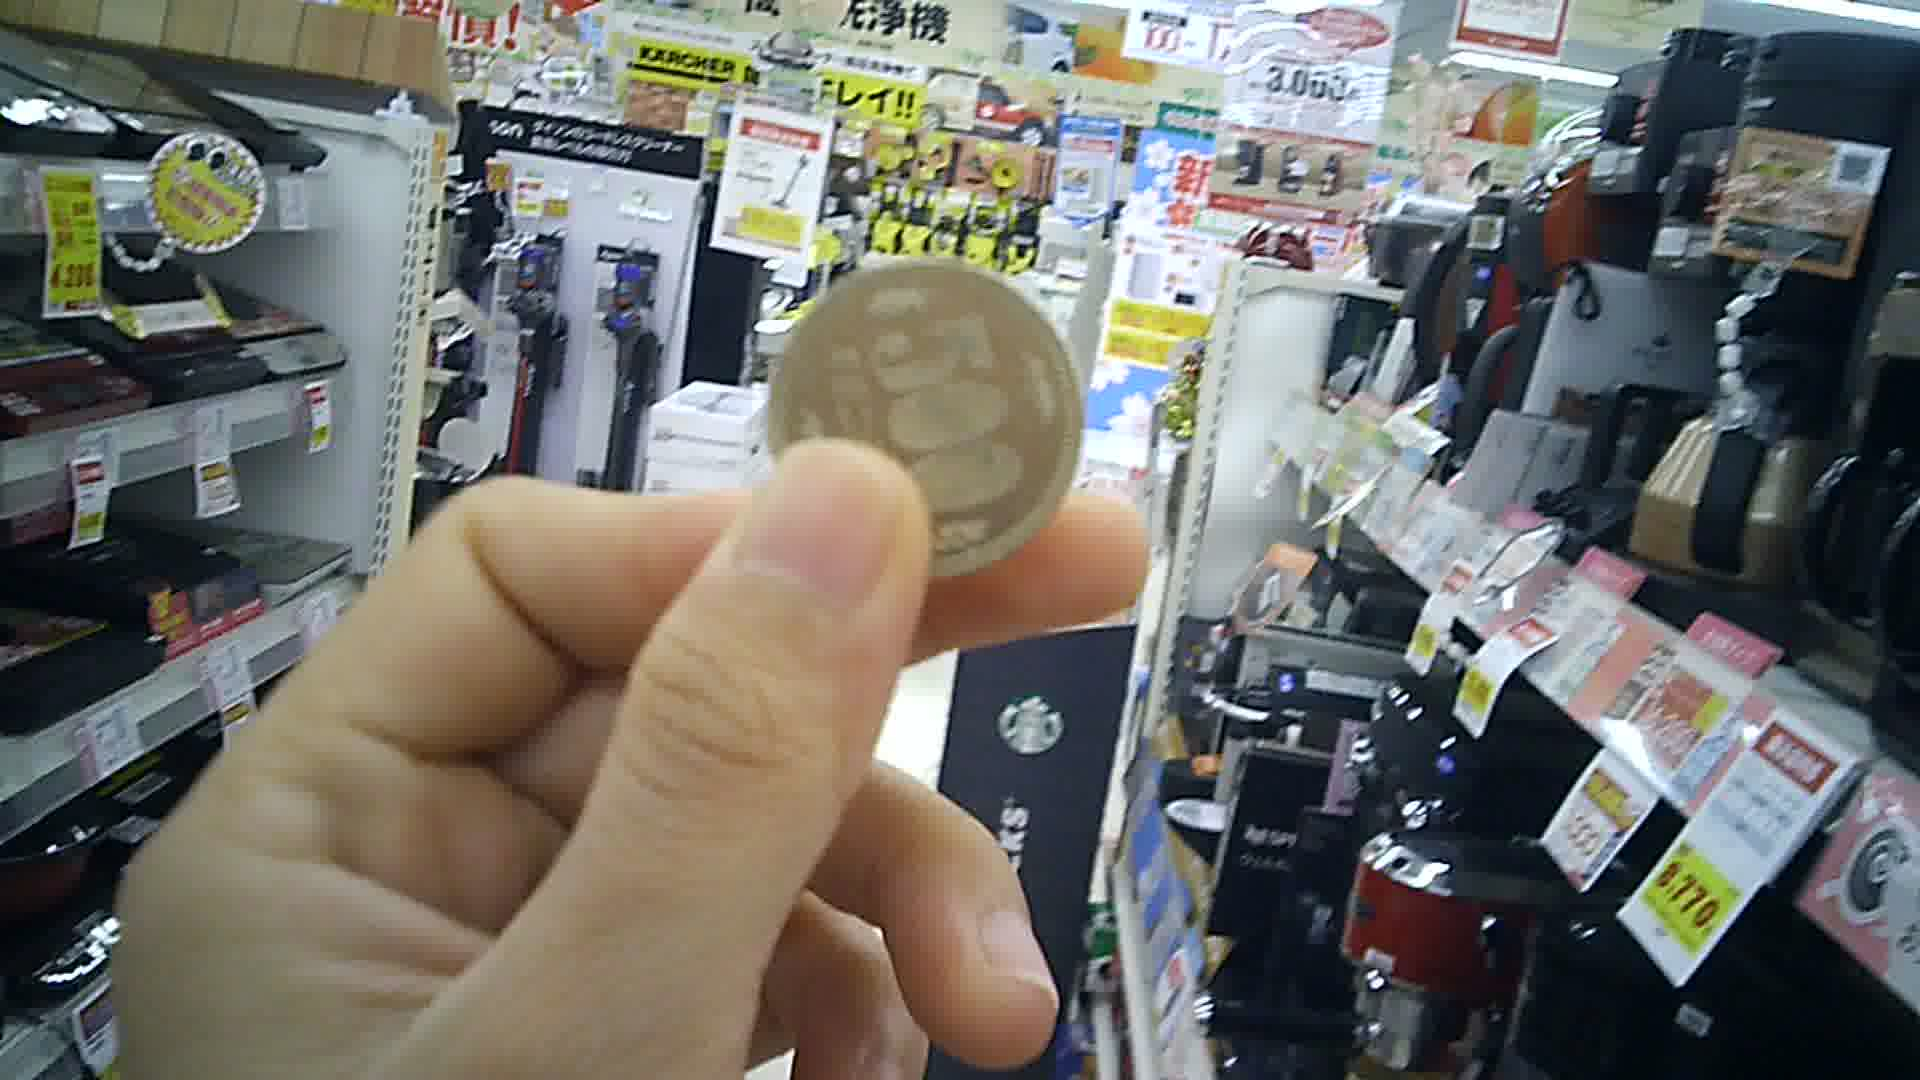500 Yen: (761, 255, 1091, 582)
